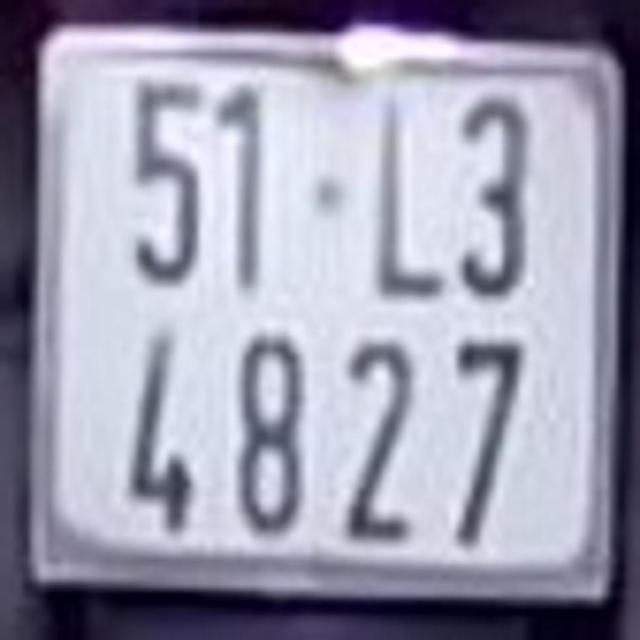1: (213, 67, 270, 290)
2: (338, 324, 411, 551)
3: (451, 72, 534, 300)
4: (126, 313, 194, 544)
5: (124, 68, 206, 284)
7: (447, 320, 525, 550)
8: (232, 320, 304, 538)
L: (366, 82, 444, 304)
